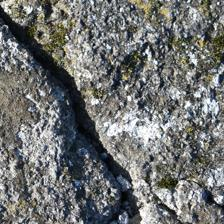Crack: (2, 6, 148, 211)
